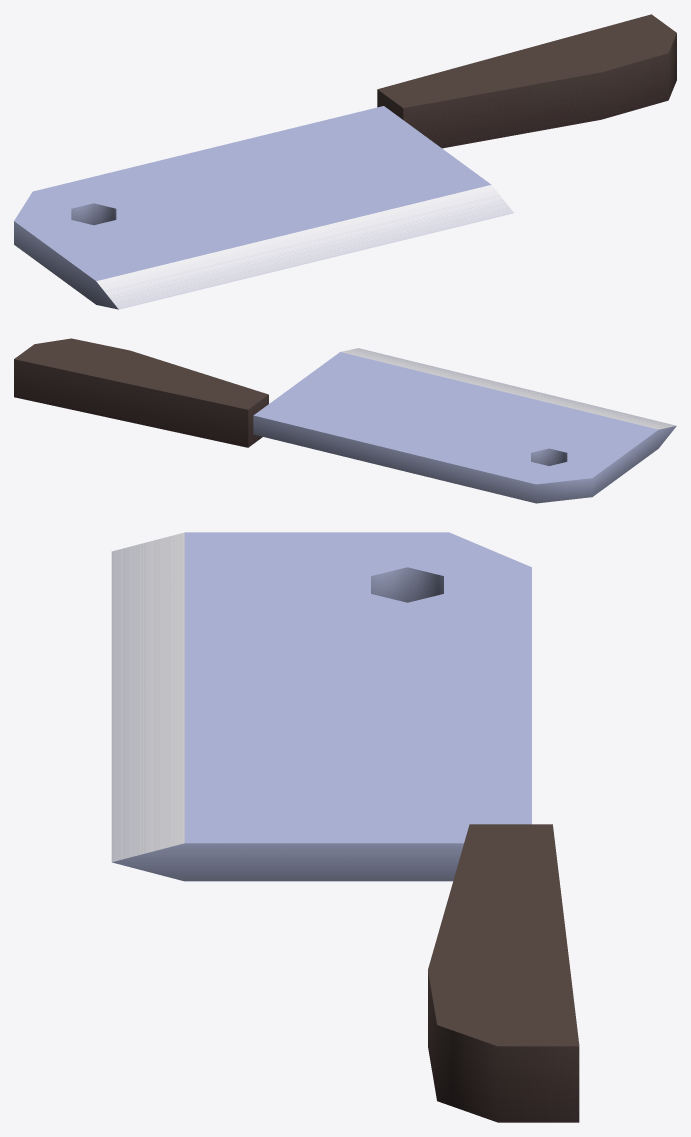
The model's file is kf_cooking-knife-chopping.glb.
3 renders of one model, top to bottom at view 1: azimuth 30°, elevation 25°; view 2: azimuth 150°, elevation 25°; view 3: azimuth 270°, elevation 25°, orthographic. The views are drawn at different scales.
Parts seen in each view (by area): view 1: cooking-knife-chopping; view 2: cooking-knife-chopping; view 3: cooking-knife-chopping.
Part boxes in pixels (x1,y1,x2,y2): cooking-knife-chopping: (14,14,676,309); cooking-knife-chopping: (14,338,676,503); cooking-knife-chopping: (111,532,579,1122).
Bounding box in the file's own units: 0.1749 × 0.0117 × 0.0649.
Materials: 1 (1 with a texture image).
